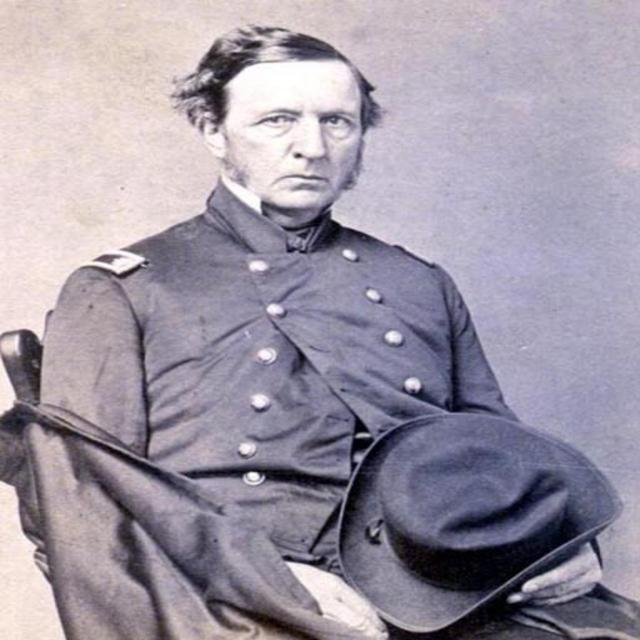nomask: (222, 61, 361, 210)
